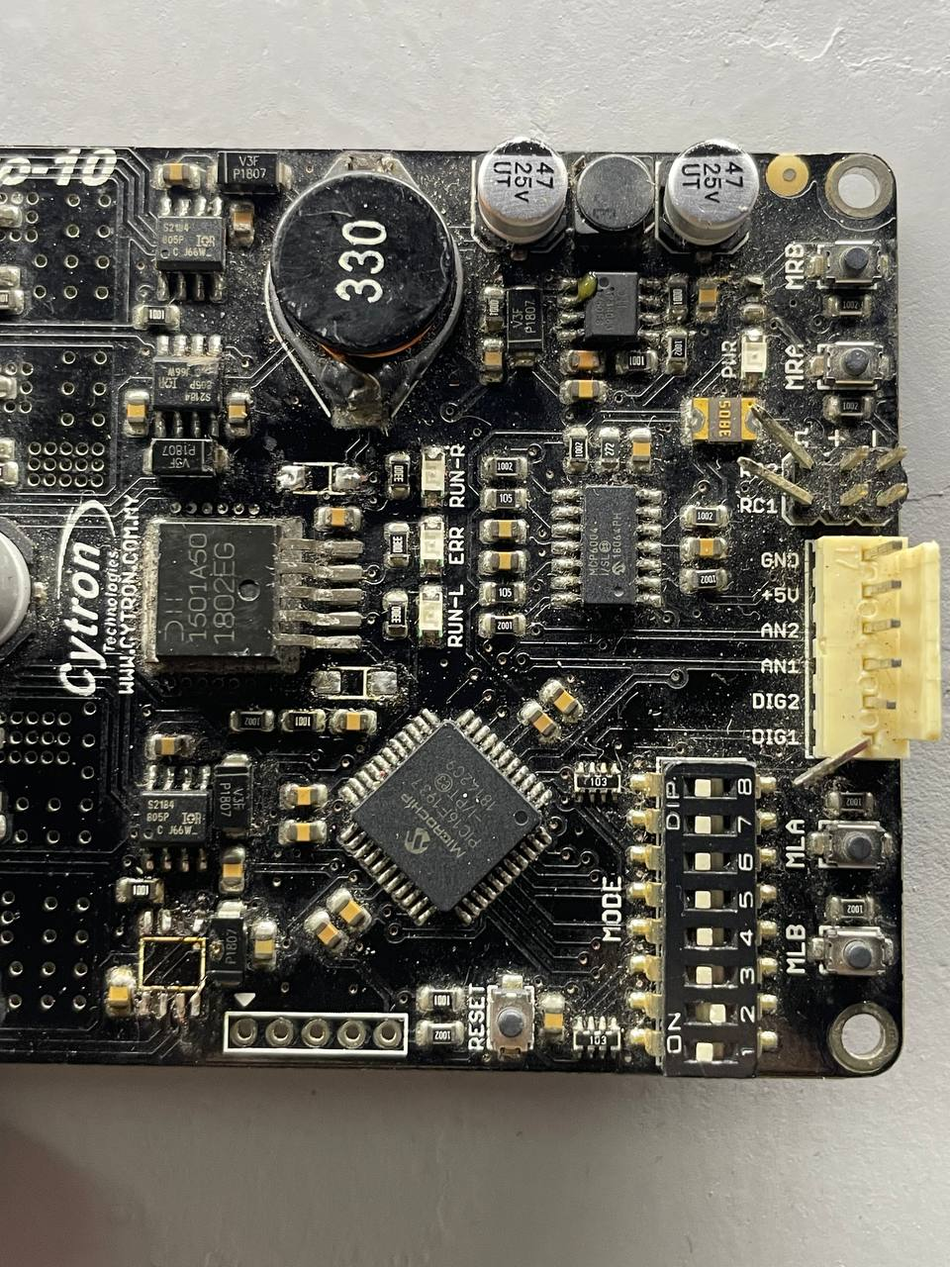bent_pin: (787, 732, 877, 793), (746, 399, 821, 471), (735, 456, 818, 511)
missing_comp: (134, 933, 213, 995), (276, 460, 356, 499), (315, 663, 393, 702)
